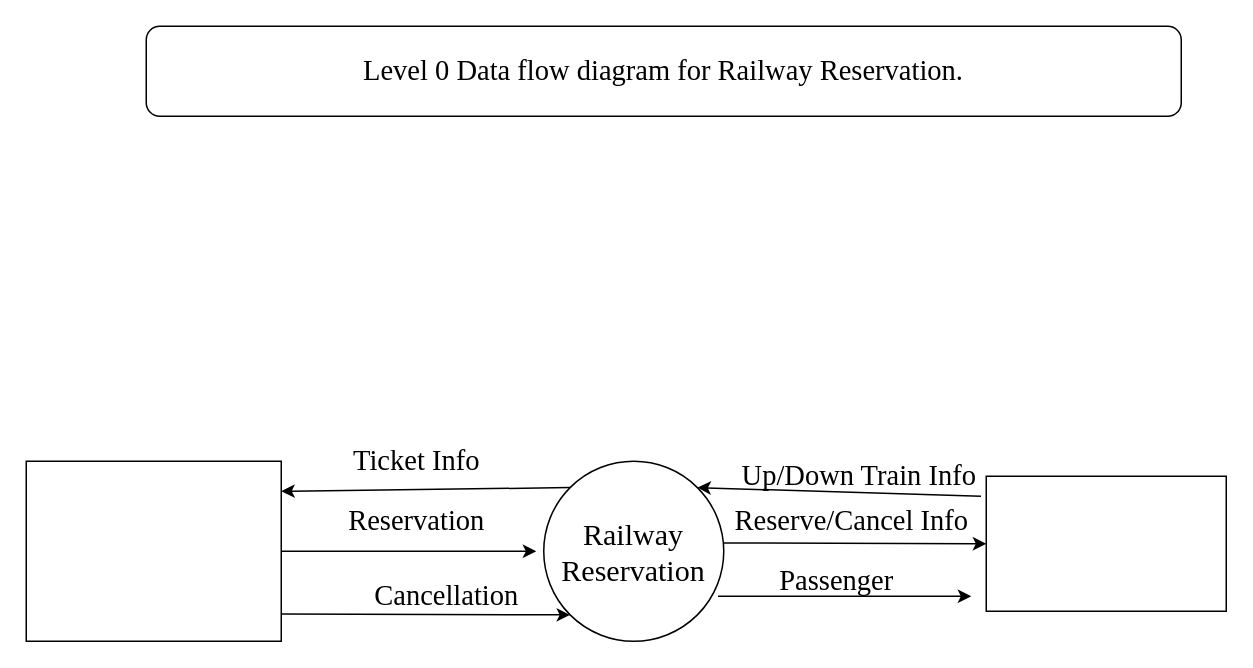
Image size: 1253x668. Some labels were removed from this diagram. Each missing label, with the centre of its shape:
"Admin" goes at (x=1105, y=543).
"Pa ssenger" goes at (x=153, y=550).
